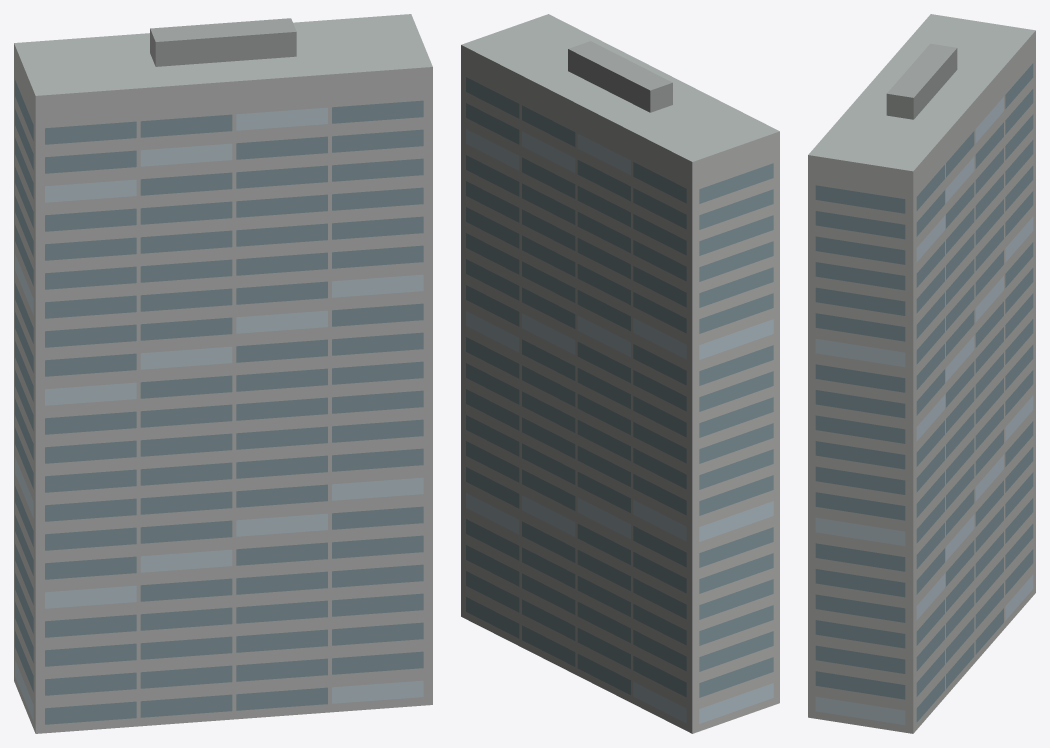
The model's file is fallback-gwanak-dream-town-129.glb.
The picture shows the model from 3 angles, left to right: view 1: azimuth 30°, elevation 25°; view 2: azimuth 150°, elevation 25°; view 3: azimuth 270°, elevation 25°; orthographic projection. The views are drawn at different scales.
Parts seen in each view (by area): view 1: fallback-gwanak-dream-town-129; view 2: fallback-gwanak-dream-town-129; view 3: fallback-gwanak-dream-town-129.
Boxes of the visible parts, left/top/right/bottom form: fallback-gwanak-dream-town-129: left=14, top=14, right=432, bottom=733; fallback-gwanak-dream-town-129: left=461, top=14, right=779, bottom=733; fallback-gwanak-dream-town-129: left=808, top=14, right=1035, bottom=733.
Size of the model in its own units: 36.96 by 64 by 22.61.
